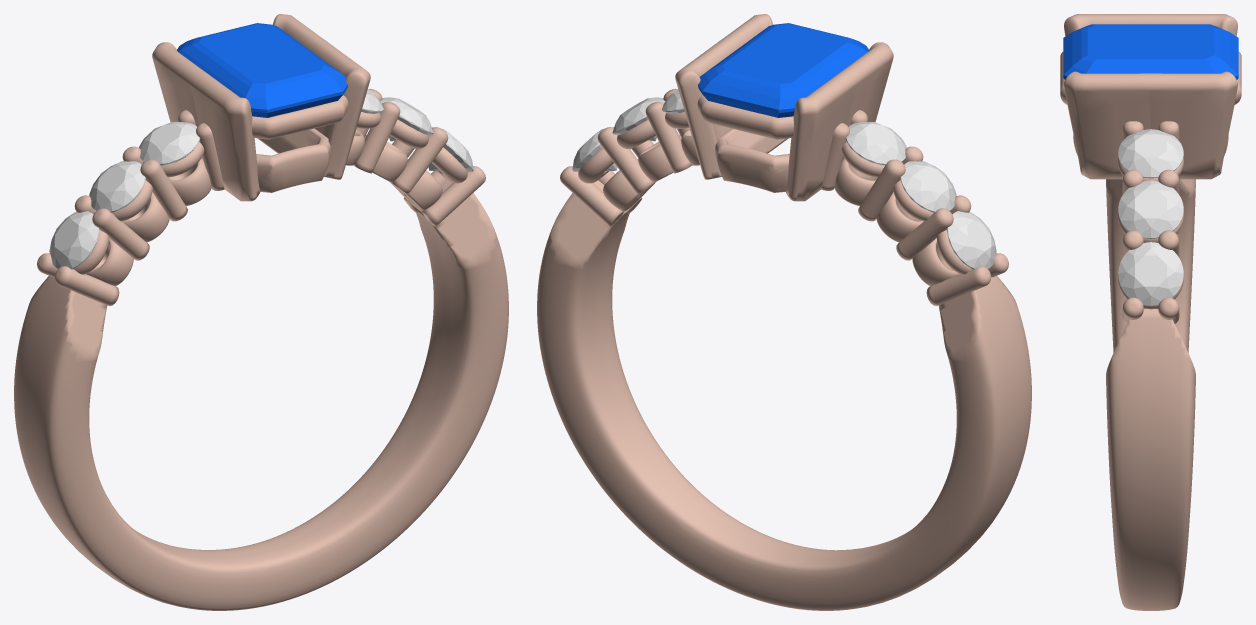
The model's file is bluesapphire-emerald-rosegold-halfmoonbezel-straighttaperedband-7stone.glb.
The picture shows the model from 3 angles, left to right: view 1: azimuth 30°, elevation 25°; view 2: azimuth 150°, elevation 25°; view 3: azimuth 270°, elevation 25°; orthographic projection.
Parts seen in each view (by area): view 1: metal.002, stone.002, side.012, side.013, side.014, side.016; view 2: metal.002, stone.002, side.012, side.013, side.014, side.016; view 3: metal.002, stone.002, side.017, side.016, side.015.
Part boxes in pixels (box(x1,y1,x2,y2)): metal.002: box(14, 14, 508, 610); stone.002: box(177, 23, 347, 117); side.012: box(49, 211, 99, 269); side.013: box(89, 161, 145, 212); side.014: box(139, 122, 200, 165); side.016: box(380, 97, 433, 141); metal.002: box(537, 14, 1031, 610); stone.002: box(698, 23, 868, 117); side.012: box(946, 211, 996, 269); side.013: box(900, 161, 956, 212); side.014: box(845, 122, 906, 165); side.016: box(612, 97, 665, 141); metal.002: box(1060, 14, 1241, 610); stone.002: box(1063, 24, 1238, 79); side.017: box(1118, 242, 1183, 305); side.016: box(1118, 180, 1183, 238); side.015: box(1118, 129, 1183, 178).
Bounding box in the file's own units: 20.5 × 22.94 × 6.94.
